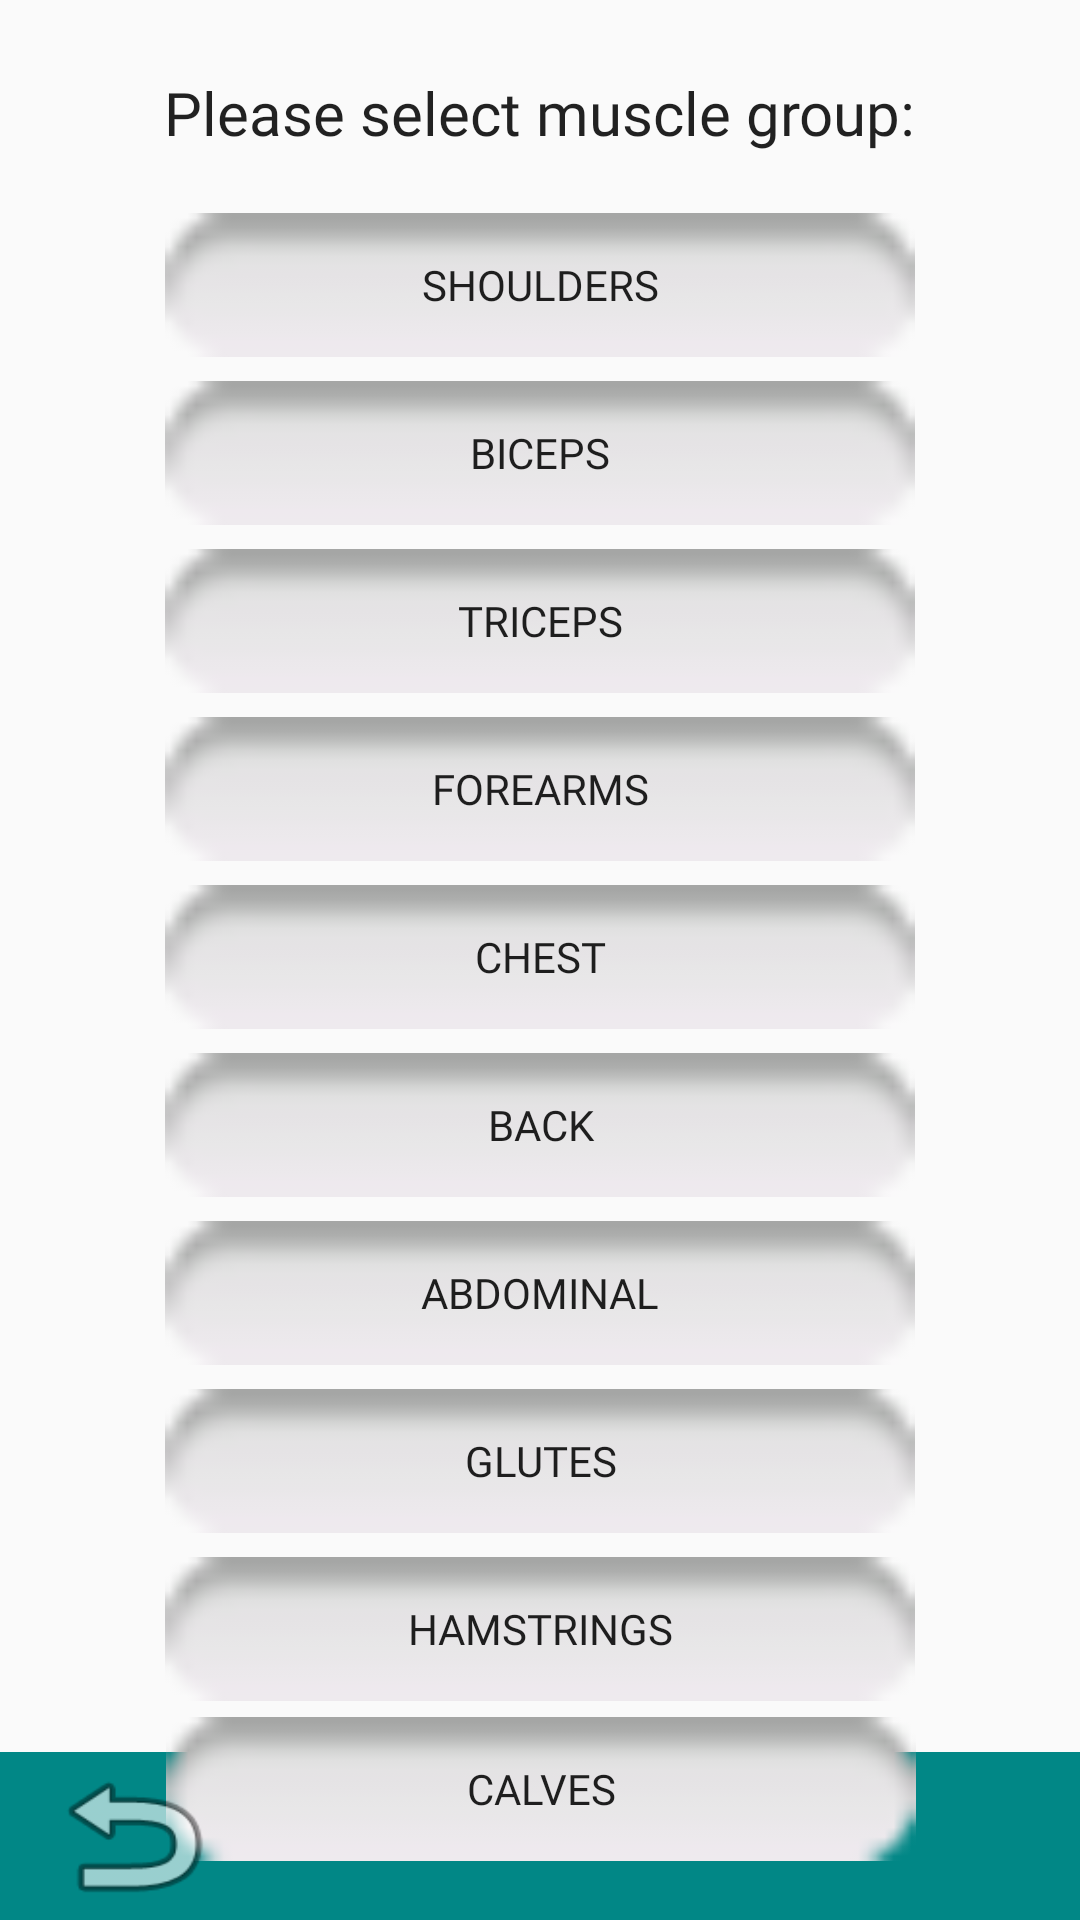

Where to tap for icons on this 1080x1920 app screen, as (x=x, y=y):
revert: (x=133, y=1836)
